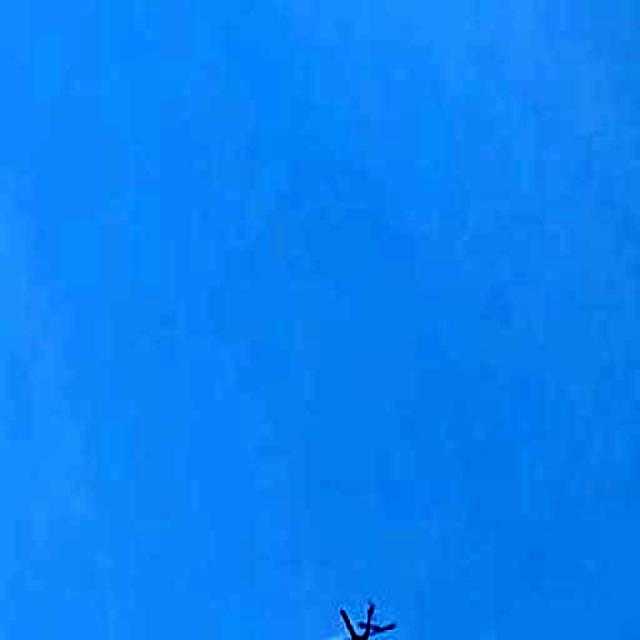drone: (310, 589, 414, 640)
